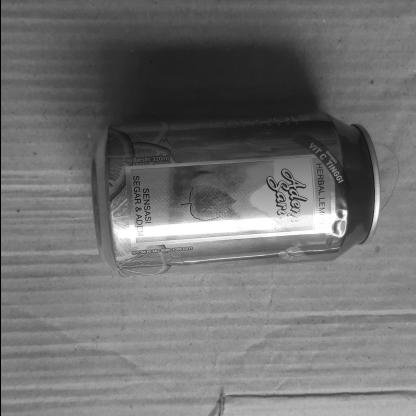alumunium_can: (90, 101, 385, 284)
